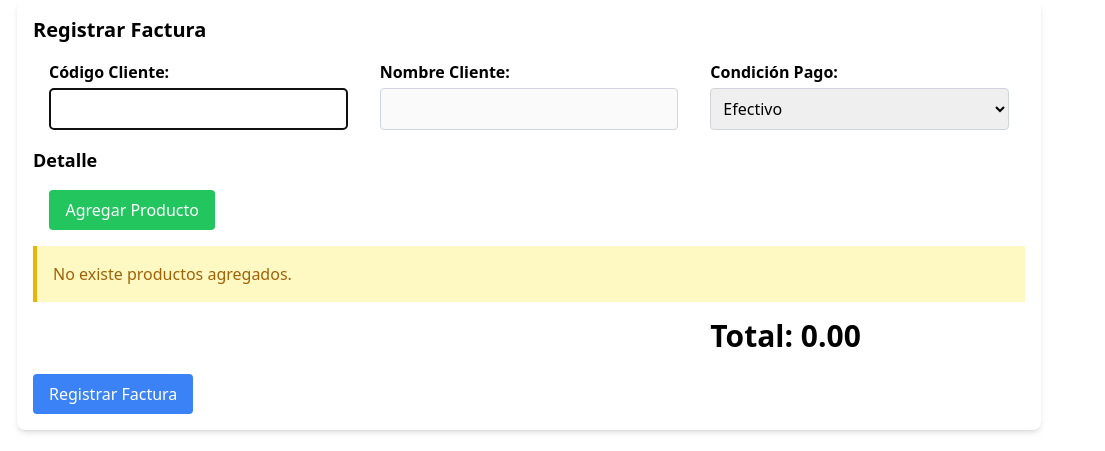
Test: App test Register Invoice › register invoice without detalle
This screenshot has width=1105, height=451.
// Input valid values
Type "3" into the field labelled "Código Cliente:" at (198,109), box [49,88,348,130]
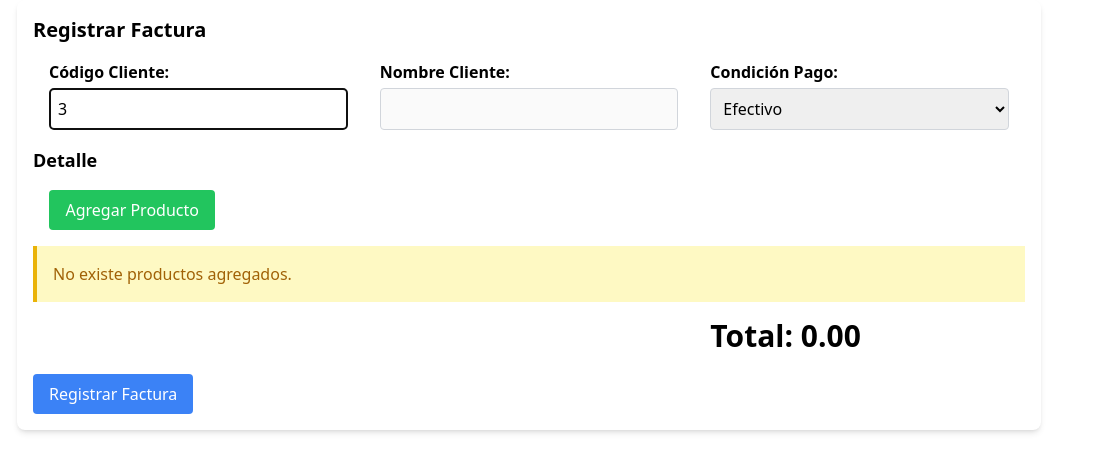
Type "Juan Pérez" into the field labelled "Nombre Cliente:" at (529,109), box [380,88,678,130]
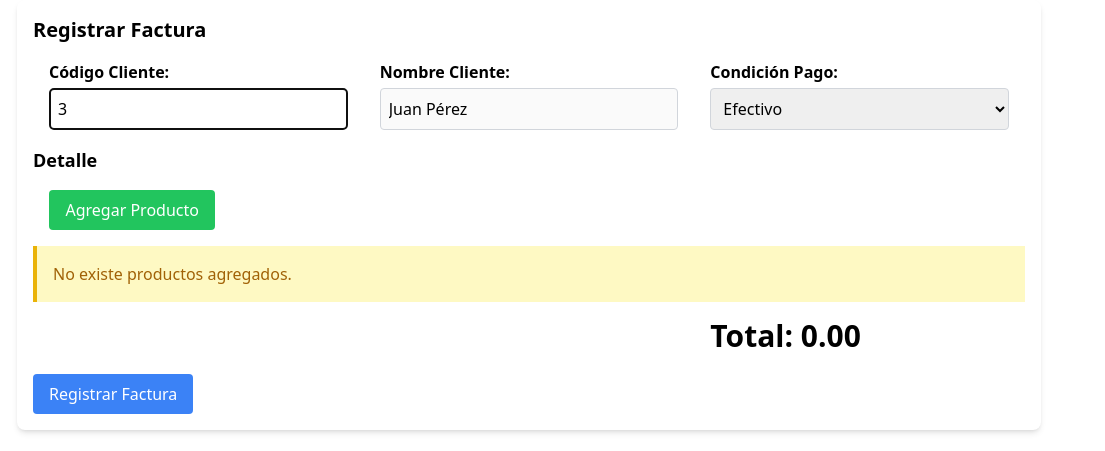
Select "Tarjeta" in the dropdown labelled "Condición Pago:" at (860,109), box [710,88,1009,130]
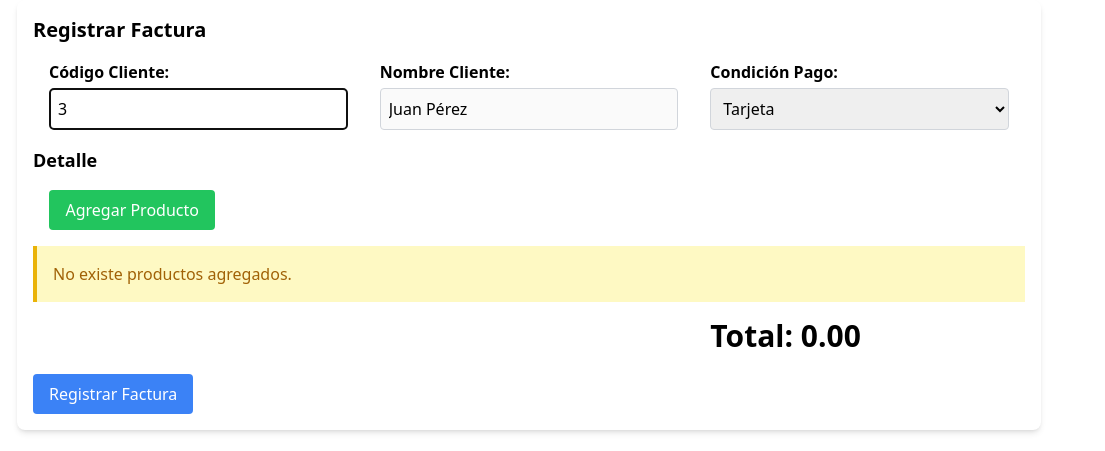
// Submit the form
Click the button "Registrar Factura" at (113,394), box [33,374,193,414]
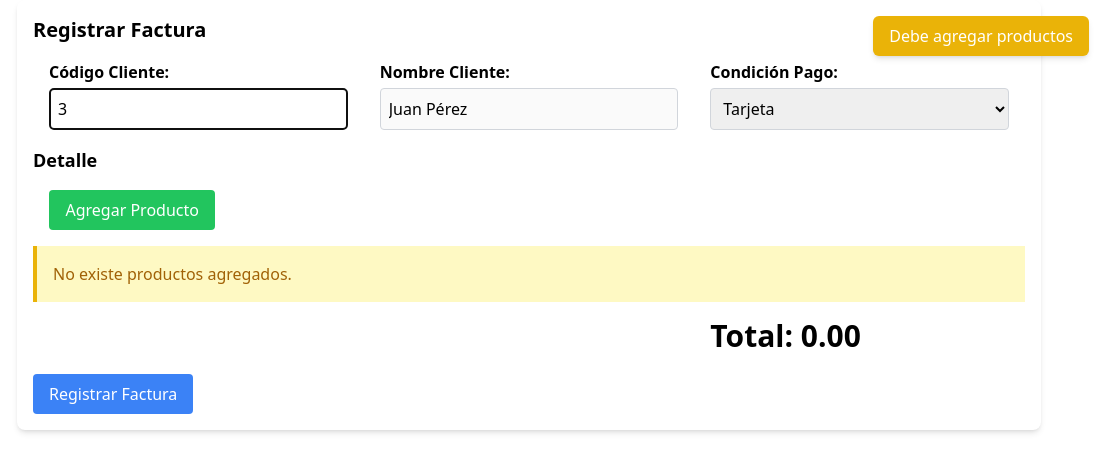
Check: the text "Debe agregar productos" is shown, box [873,16,1089,56]
